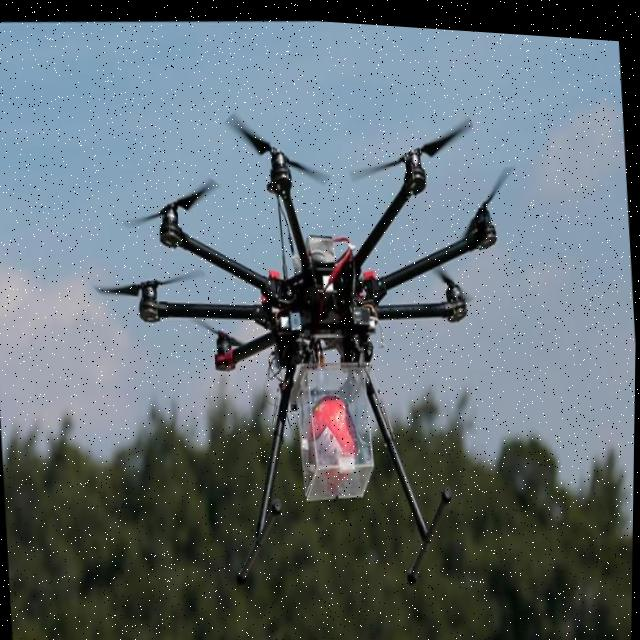drones: (69, 41, 627, 629)
